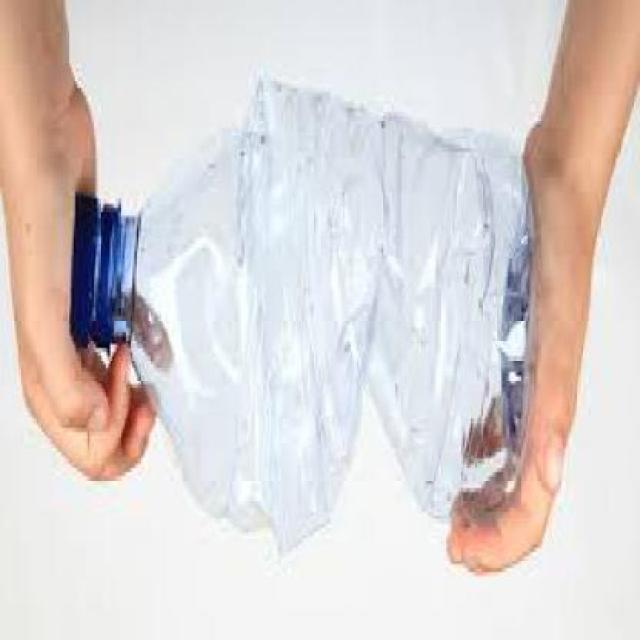PLASTIC: (71, 80, 542, 560), (73, 196, 122, 359)
